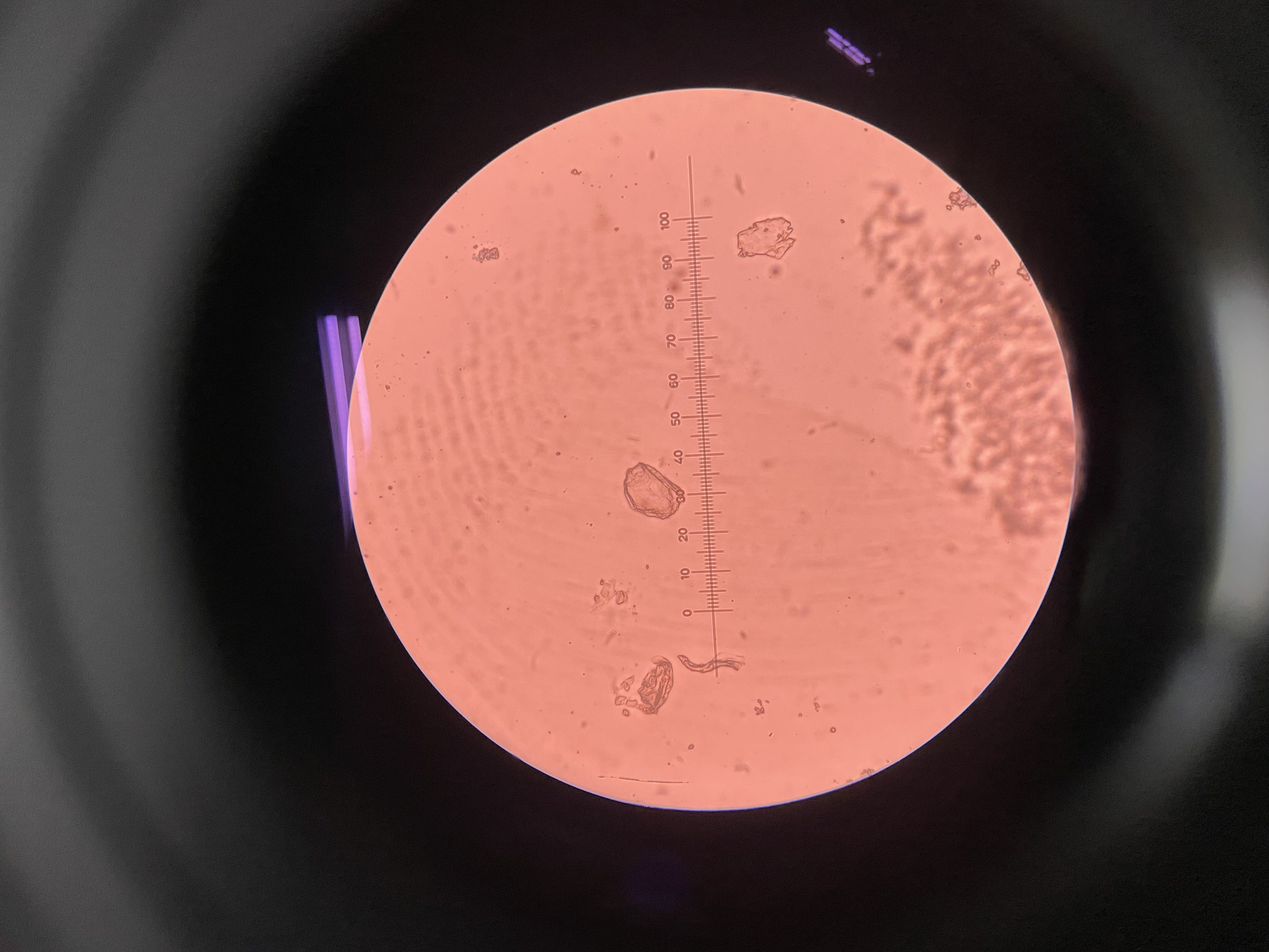microplastic: (856, 182, 1086, 534), (608, 654, 672, 719), (624, 461, 685, 520), (735, 213, 801, 266), (677, 649, 746, 677), (588, 577, 637, 610), (947, 184, 980, 214), (468, 243, 510, 262), (751, 694, 772, 718), (1013, 264, 1029, 281), (991, 261, 1007, 276)
